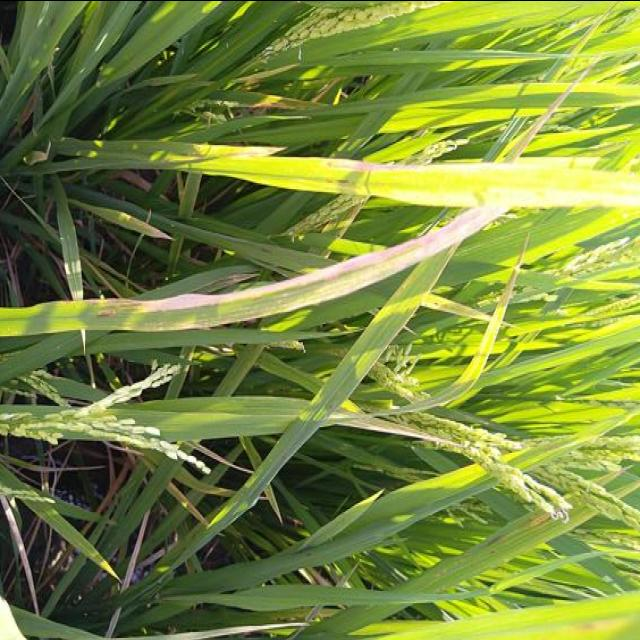Leaf Streak: (94, 208, 503, 331), (494, 70, 586, 162), (246, 96, 325, 109)
